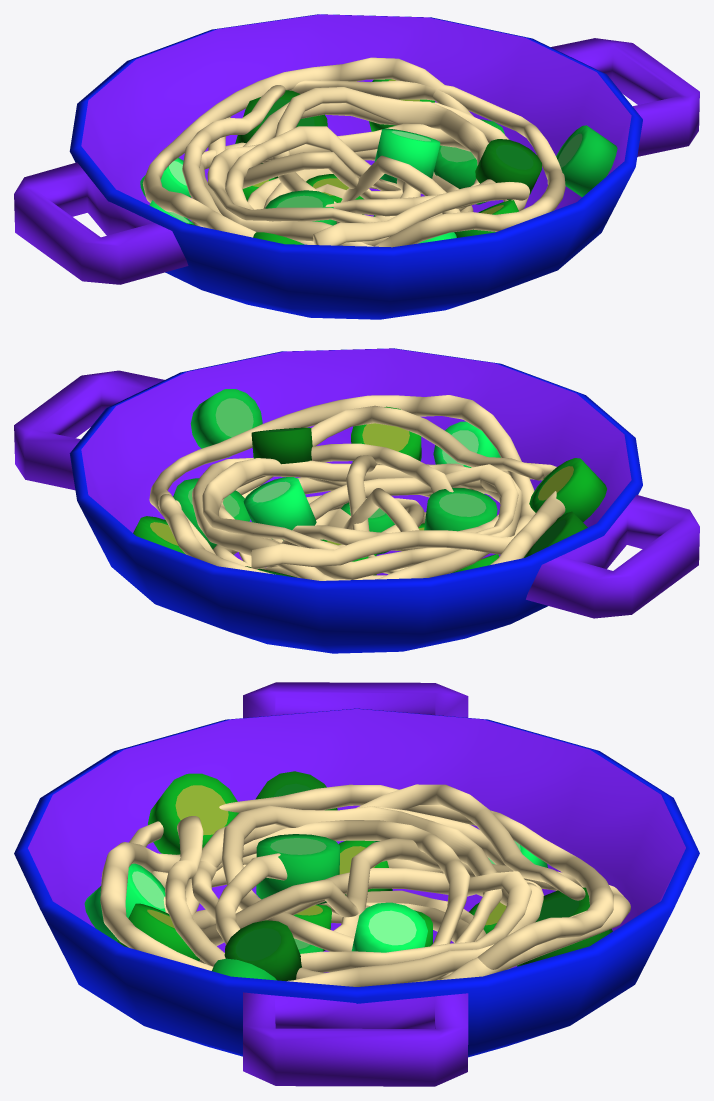
File: wok_uncooked_bami3.fbx
3 renders of one model, top to bottom at view 1: azimuth 30°, elevation 25°; view 2: azimuth 150°, elevation 25°; view 3: azimuth 270°, elevation 25°, orthographic. The views are drawn at different scales.
Parts seen in each view (by area): view 1: Wok, Noodles Cooked, Leek Chopped, Carrot Chopped; view 2: Wok, Noodles Cooked, Leek Chopped, Carrot Chopped; view 3: Wok, Noodles Cooked, Leek Chopped, Carrot Chopped.
Part boxes in pixels (left/top/right/bottom): Wok: left=14, top=14, right=699, bottom=319; Noodles Cooked: left=142, top=57, right=565, bottom=247; Leek Chopped: left=140, top=90, right=617, bottom=243; Carrot Chopped: left=242, top=79, right=518, bottom=244; Wok: left=14, top=348, right=699, bottom=653; Noodles Cooked: left=149, top=395, right=565, bottom=580; Leek Chopped: left=164, top=389, right=587, bottom=577; Carrot Chopped: left=133, top=406, right=606, bottom=575; Wok: left=14, top=682, right=699, bottom=1086; Noodles Cooked: left=100, top=784, right=630, bottom=986; Leek Chopped: left=84, top=771, right=612, bottom=981; Carrot Chopped: left=117, top=773, right=506, bottom=961.
Size of the model in its own units: 54.02 by 66.75 by 11.77.
